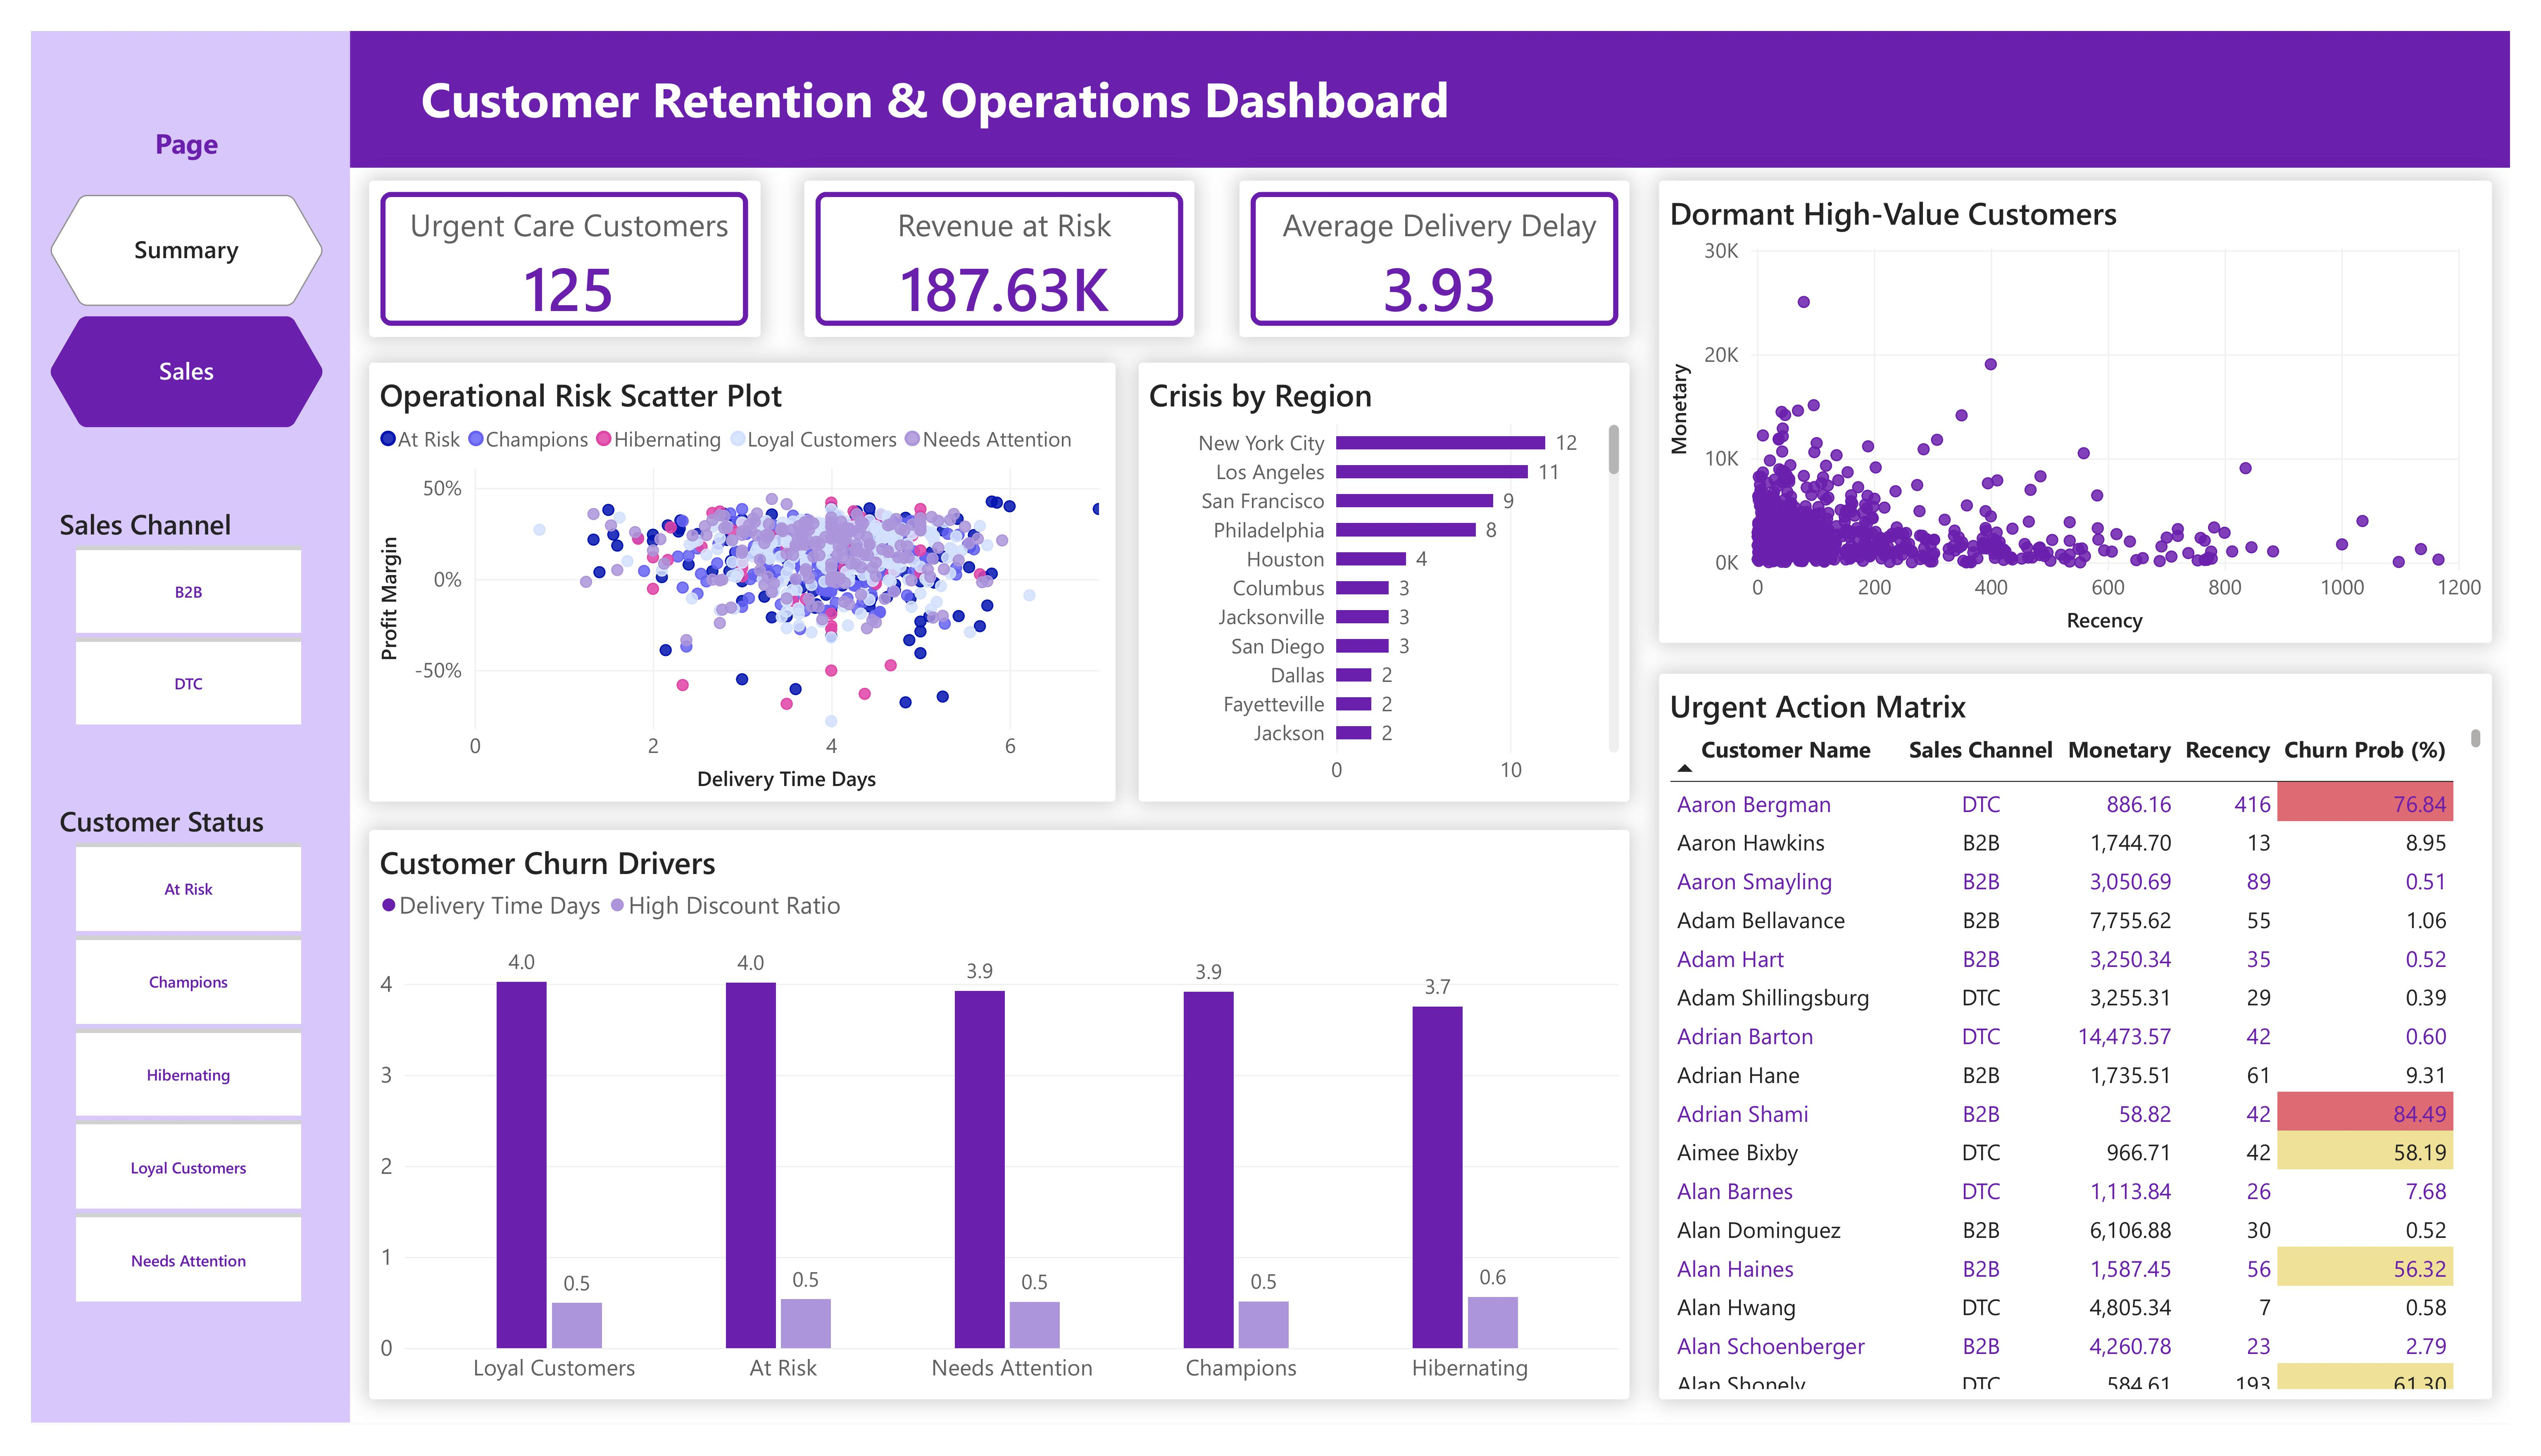

Layout of this report page (visuals, bound fields, positions):
{"tool":"powerbi","page":{"name":"Sales","canvas":[1920,1080],"ordinal":1},"visuals":[{"type":"textbox","box":[302.2,27.1,866.8,59.7],"z":0},{"type":"cardVisual","fields":{"Data":["_Measures.Urgent Care Customers Count"]},"box":[262.4,115.8,302.2,121.2],"z":1000},{"type":"cardVisual","fields":{"Data":["_Measures.At Risk Revenue"]},"box":[599,115.8,302.2,121.2],"z":2000},{"type":"cardVisual","fields":{"Data":["_Measures.At Risk Avg Delivery Days"]},"box":[935.6,115.8,302.2,121.2],"z":3000},{"type":"tableEx","title":"Urgent Action Matrix","fields":{"Values":["Dim_Customer.Customer Name","Dim_Customer.Sales Channel","RFM_Analysis.Monetary","RFM_Analysis.Recency","Avg(RFM_Analysis.Churn_Probability_%)"]},"box":[1261.3,497.7,644.2,562.8],"z":3001},{"type":"scatterChart","title":"Operational Risk Scatter Plot","fields":{"Category":["Dim_Customer.Customer Name"],"Series":["RFM_Analysis.Customer_Status"],"X":["Avg(RFM_Analysis.Delivery_Time_Days)"],"Y":["Avg(Fact_Sales.Profit Margin)"]},"box":[262.4,257,577.3,340.2],"z":3002},{"type":"clusteredBarChart","title":"Crisis by Region","fields":{"Category":["Dim_Customer.City"],"Y":["_Measures.Urgent Care Customers Count"]},"box":[857.8,257,380,340.2],"z":3003},{"type":"scatterChart","title":"Dormant High-Value Customers","fields":{"Category":["Dim_Customer.Customer Name"],"X":["Sum(RFM_Analysis.Recency)"],"Y":["Sum(RFM_Analysis.Monetary)"]},"box":[1261.3,115.8,644.2,358.3],"z":3004},{"type":"clusteredColumnChart","title":"Customer Churn Drivers","fields":{"Category":["RFM_Analysis.Customer_Status"],"Y":["Avg(RFM_Analysis.Delivery_Time_Days)","Avg(RFM_Analysis.High_Discount_Ratio)"]},"box":[262.4,618.9,975.4,441.6],"z":3005},{"type":"slicer","fields":{"Values":["Dim_Customer.Sales Channel"]},"box":[14.5,367.4,213.5,171.9],"z":3006},{"type":"slicer","fields":{"Values":["RFM_Analysis.Customer_Status"]},"box":[14.5,597.2,213.5,389.1],"z":3007},{"type":"pageNavigator","box":[14.5,126.7,213.5,181],"z":3008},{"type":"textbox","box":[56.1,72.4,128.5,43.4],"z":3009}]}

Visuals, with their boxes on the page's 1920x1080 design canvas (x1, y1, x2, y2). These are canvas units, not pixel positions in the 2541x1456 screenshot, which may show the page scaled, cropped or inside an application window:
textbox: box(302, 27, 1169, 87)
cardVisual - _Measures.Urgent Care Customers Count: box(262, 116, 565, 237)
cardVisual - _Measures.At Risk Revenue: box(599, 116, 901, 237)
cardVisual - _Measures.At Risk Avg Delivery Days: box(936, 116, 1238, 237)
"Urgent Action Matrix" tableEx: box(1261, 498, 1906, 1060)
"Operational Risk Scatter Plot" scatterChart: box(262, 257, 840, 597)
"Crisis by Region" clusteredBarChart: box(858, 257, 1238, 597)
"Dormant High-Value Customers" scatterChart: box(1261, 116, 1906, 474)
"Customer Churn Drivers" clusteredColumnChart: box(262, 619, 1238, 1060)
slicer - Dim_Customer.Sales Channel: box(14, 367, 228, 539)
slicer - RFM_Analysis.Customer_Status: box(14, 597, 228, 986)
pageNavigator: box(14, 127, 228, 308)
textbox: box(56, 72, 185, 116)
